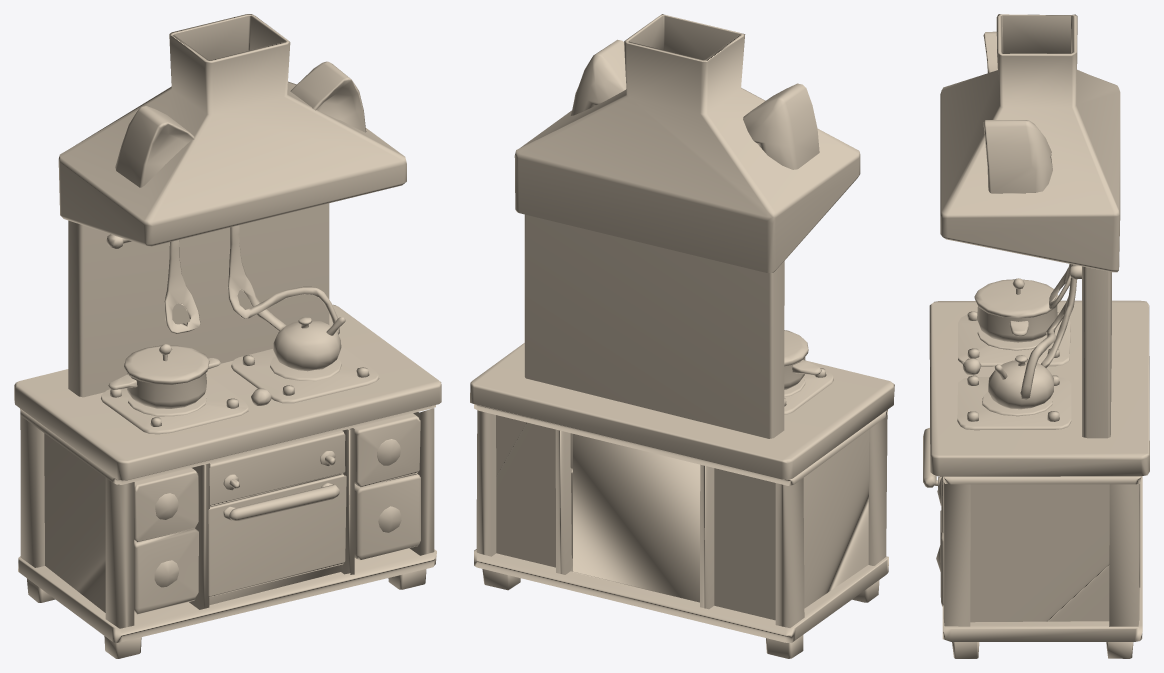
The model's file is kitchen-8-geometry.glb.
3 views of the same model, side by side, from view 1: azimuth 30°, elevation 25°; view 2: azimuth 150°, elevation 25°; view 3: azimuth 270°, elevation 25° (orthographic).
Bounding box in the file's own units: 0.6152 × 1 × 0.374.
